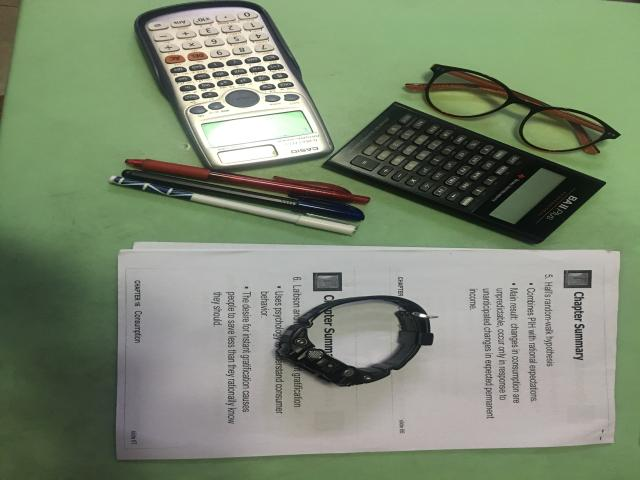Glasses: (405, 65, 620, 154)
Pen: (110, 159, 369, 236)
Watch: (277, 295, 433, 386)
paper: (117, 242, 620, 459)
